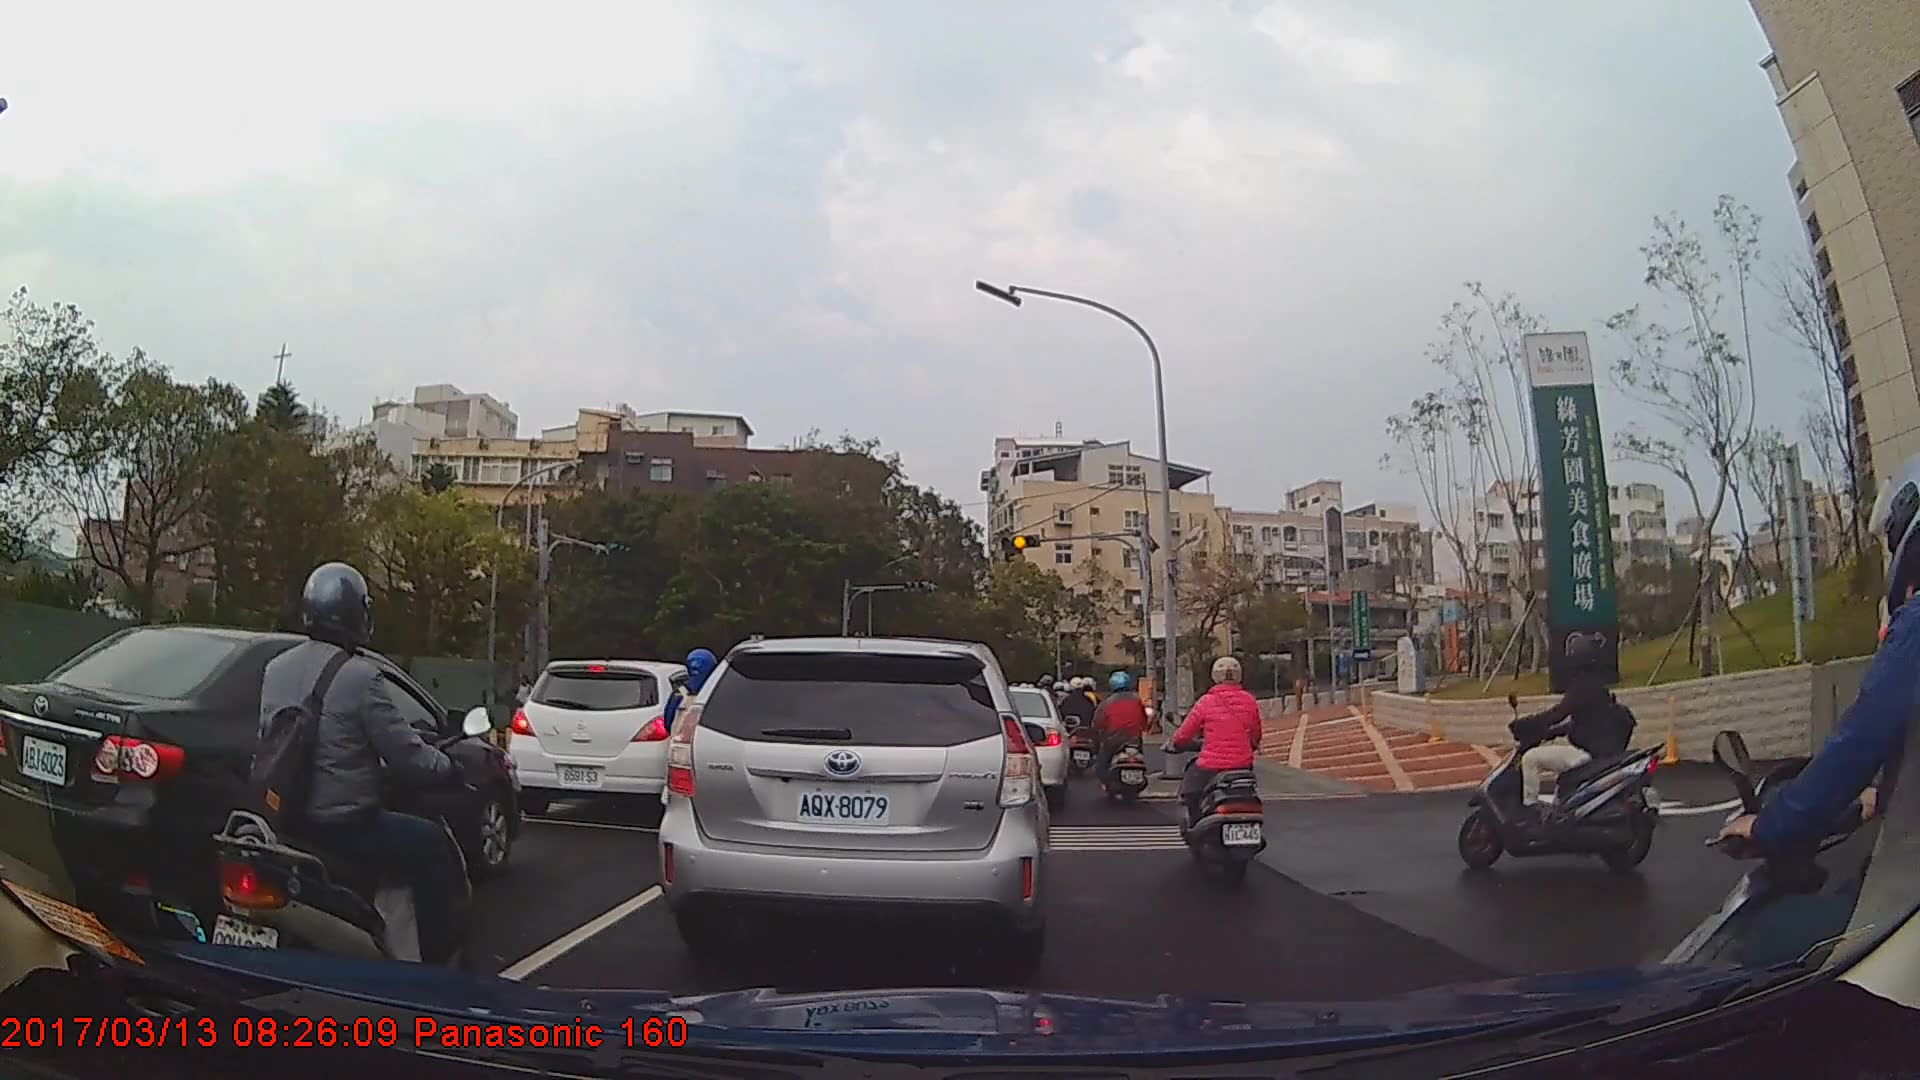pedestrian: (515, 674, 535, 730)
rider: (1651, 449, 1920, 1080), (207, 557, 483, 1025), (1461, 645, 1664, 871), (1169, 653, 1268, 881), (662, 642, 722, 855), (1093, 669, 1157, 817), (1064, 674, 1104, 779)
vehicle: (0, 622, 518, 938), (656, 635, 1052, 957), (506, 659, 726, 818), (962, 685, 1071, 802)
